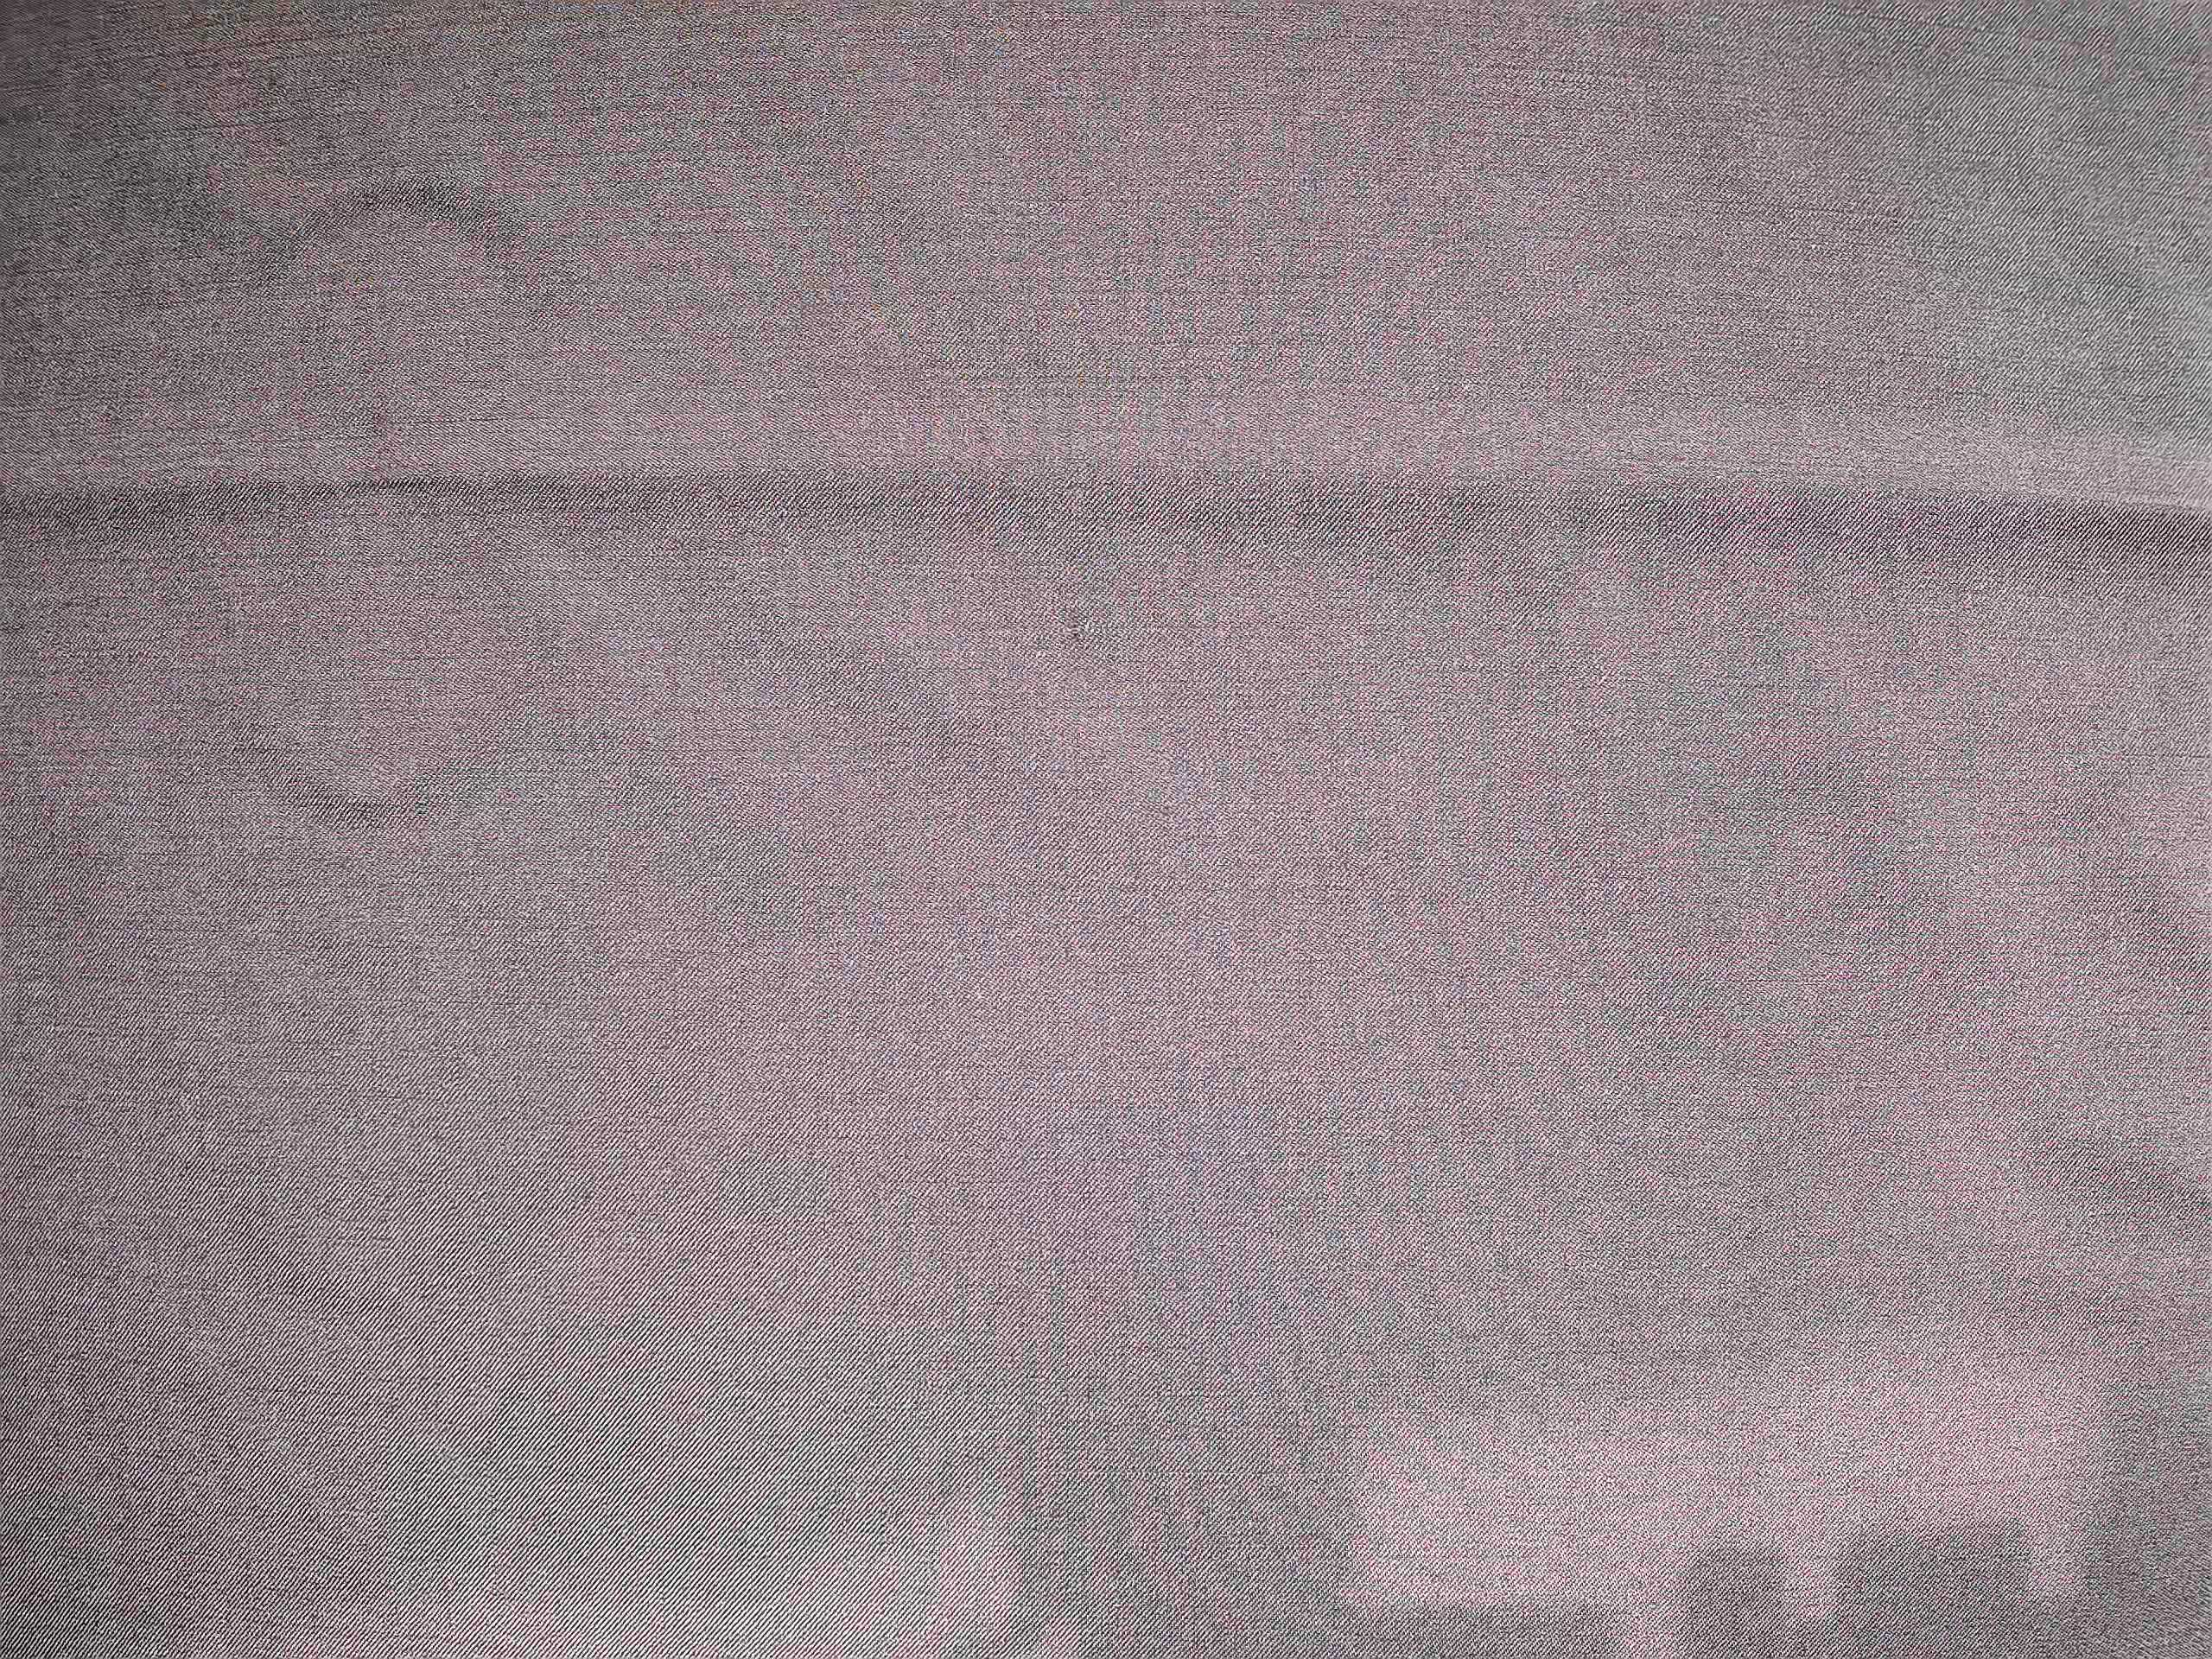knots: (1029, 579, 1113, 667)
